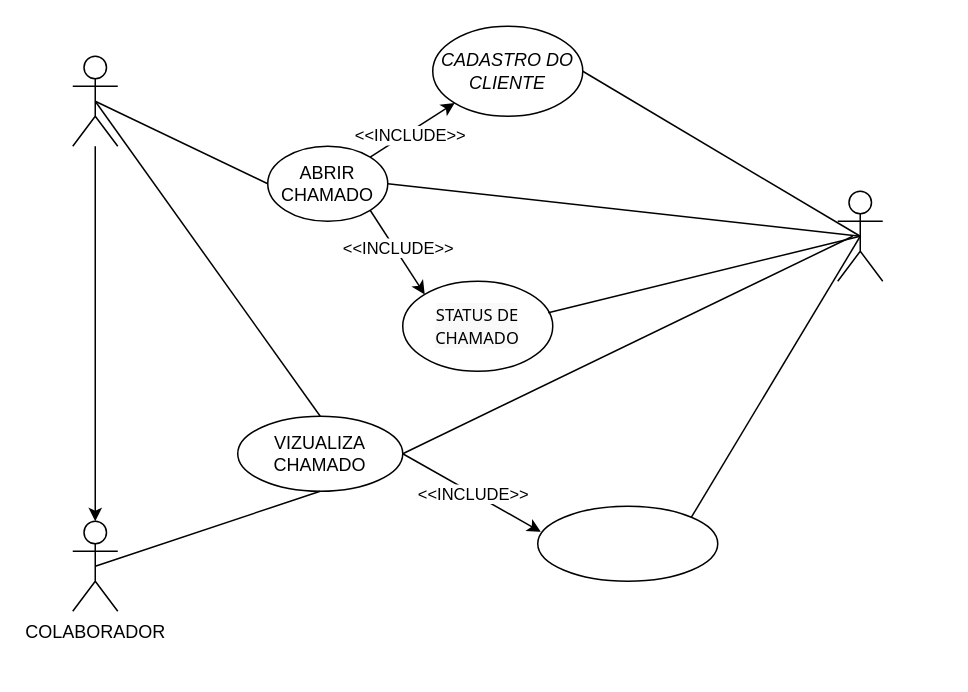
This 968x692 diagram has some shape labels left out. Each missing label, with the box of its shape:
BANCO DE DADOS: (836, 190, 883, 281)
CLIENTE: (71, 55, 118, 146)
GERENCIAMENTO DE CHAMADO: (536, 505, 718, 581)
